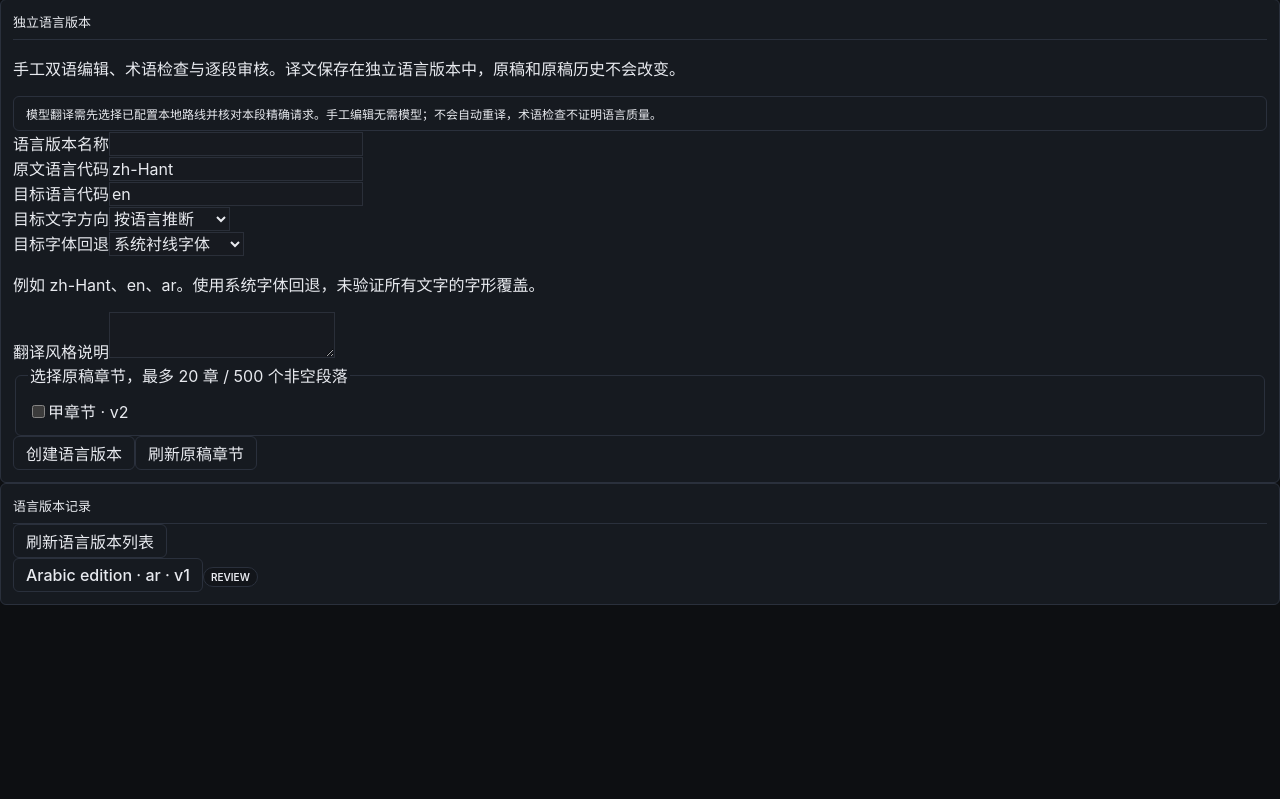
Scenario: invalidates acceptance receipt immediately when the draft changes
Click the button "Arabic edition · ar · v1" at (108, 575), box [13,558,203,592]
(page scrolled)
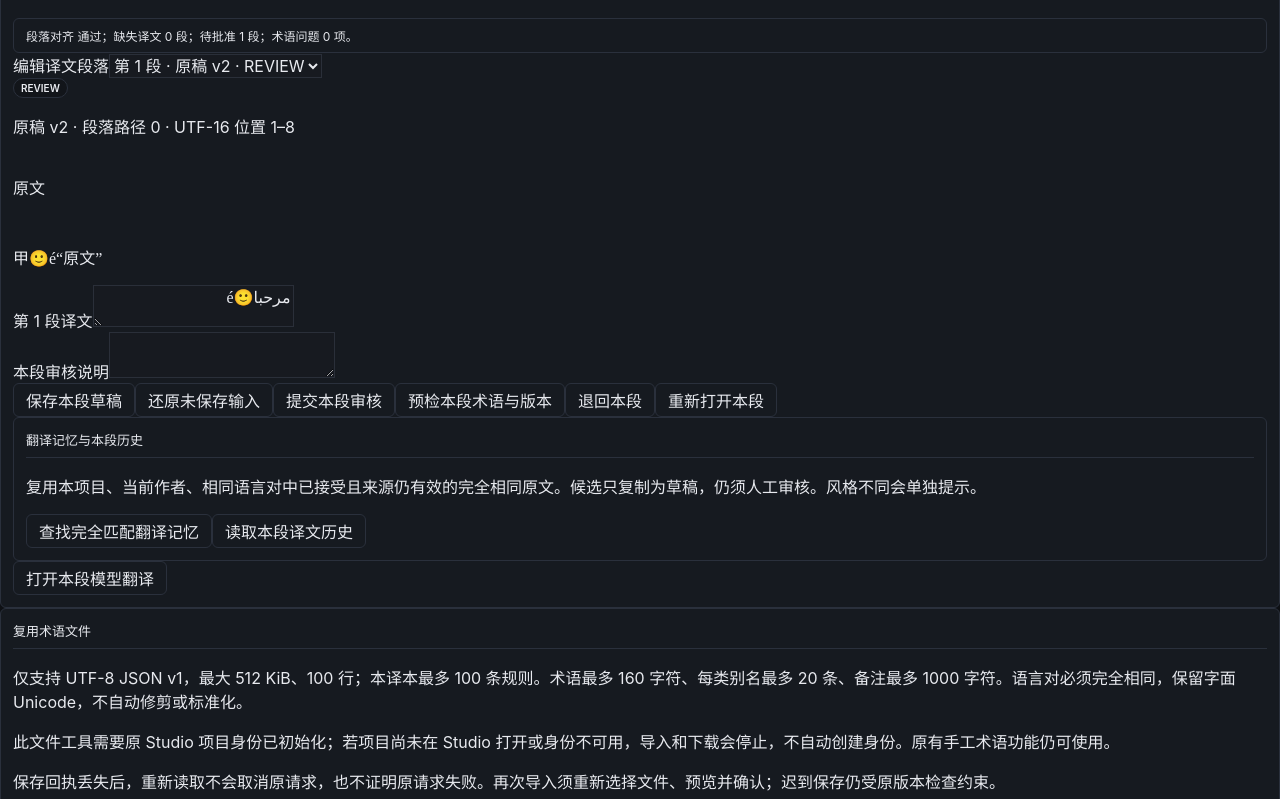
Click the button "预检本段术语与版本" at (480, 400), box [395,382,565,416]
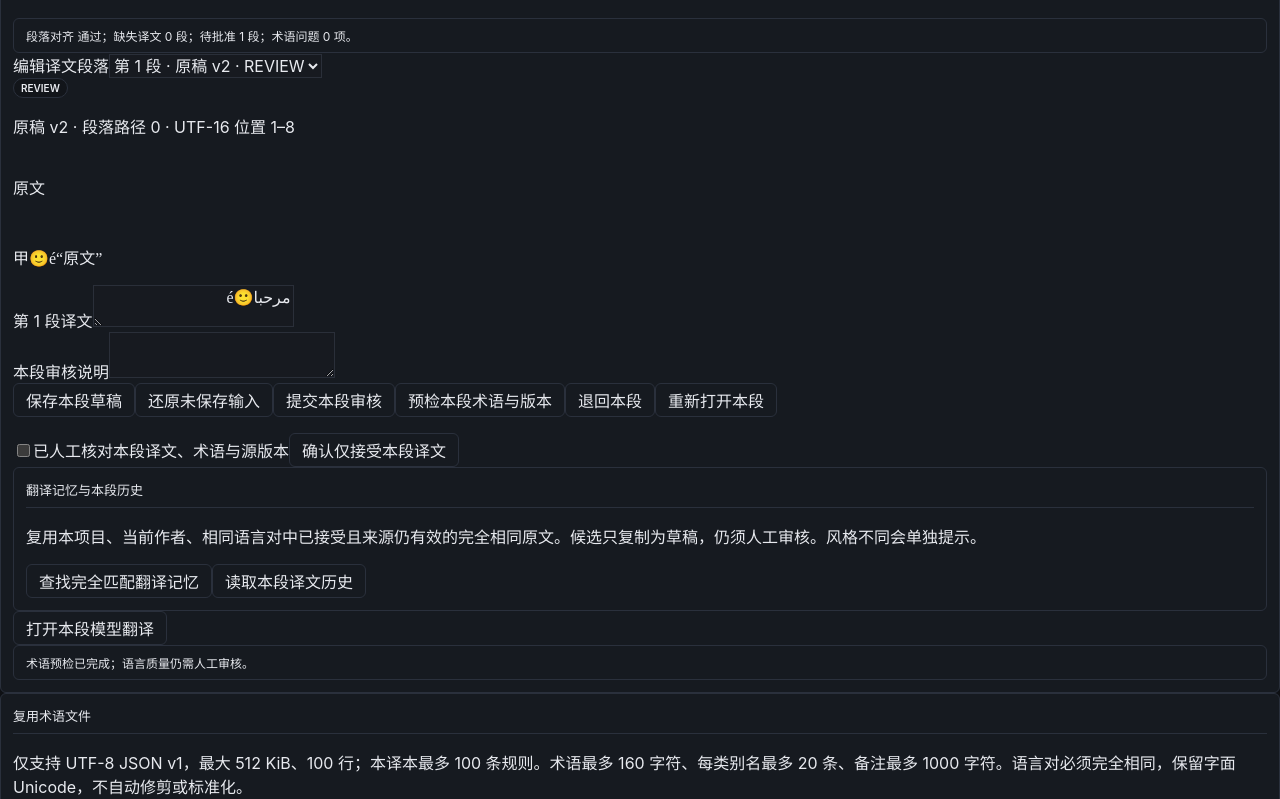
Click the checkbox labelled "已人工核对本段译文、术语与源版本" at (24, 450), box [17,444,30,456]
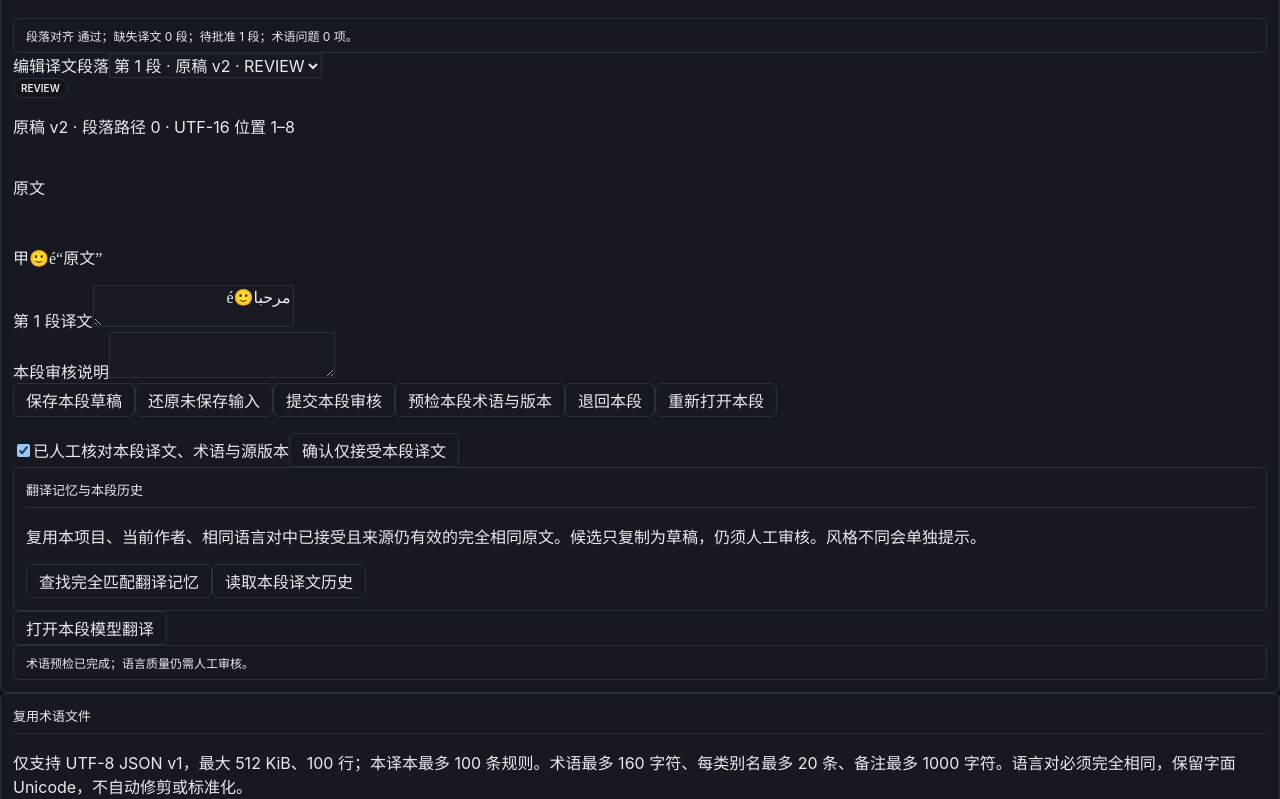
Replace the text in the text box labelled "第 1 段译文" with "新草稿" at (193, 306), box [92,284,294,326]
(page scrolled)
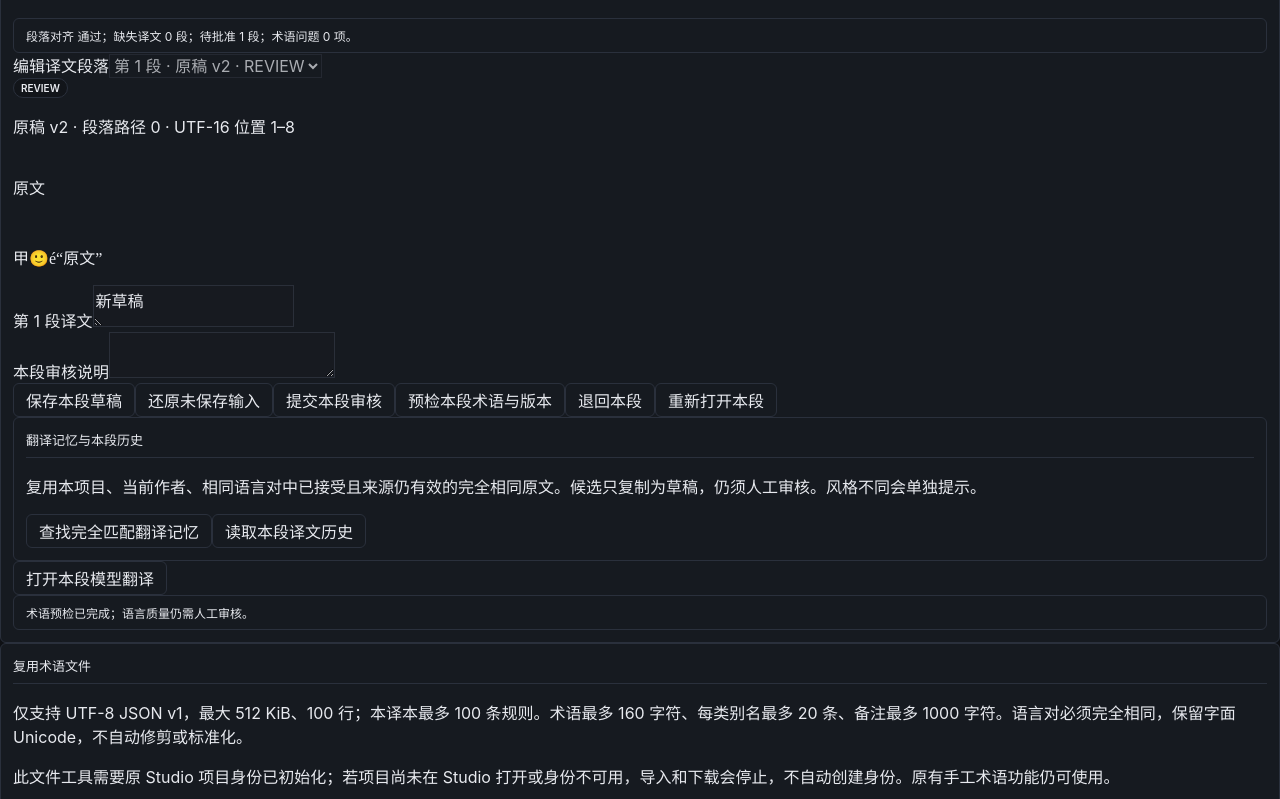
Expected: the button "确认仅接受本段译文" is gone
